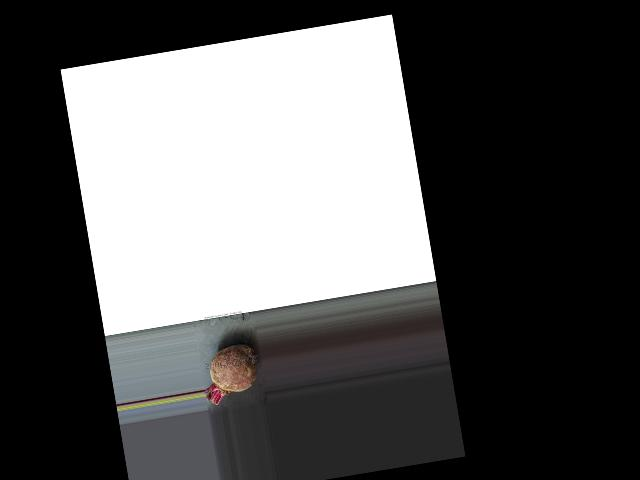beet: (198, 342, 262, 405)
